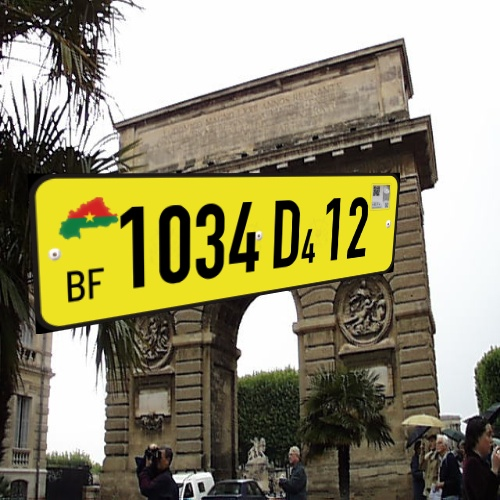plate: (24, 152, 409, 338)
